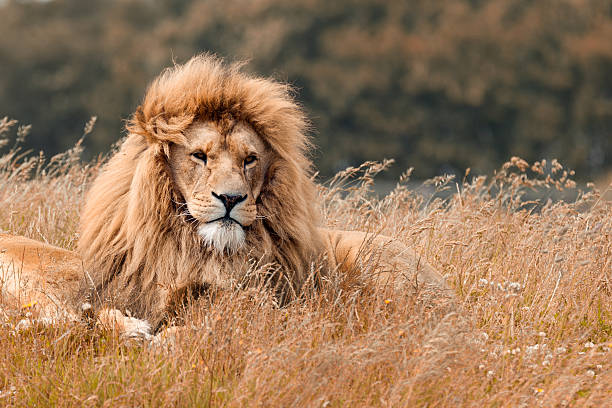lion: (47, 43, 356, 362)
